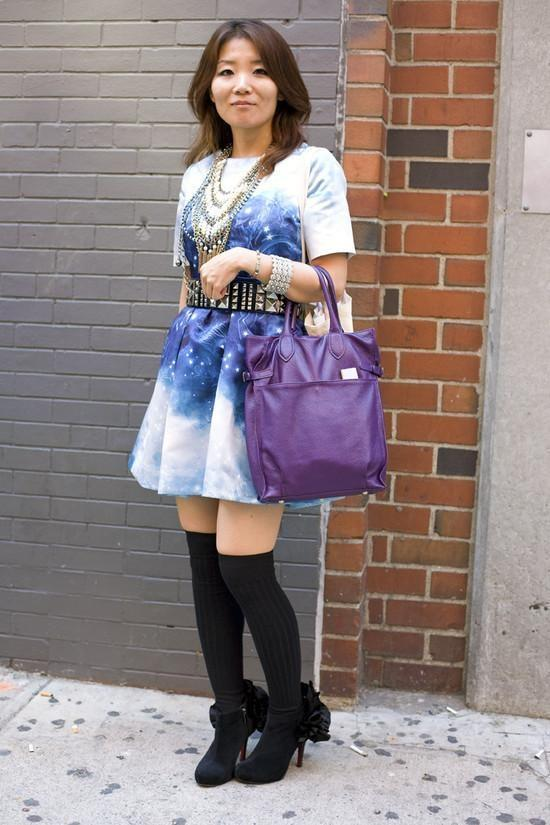dress: (126, 144, 358, 509)
